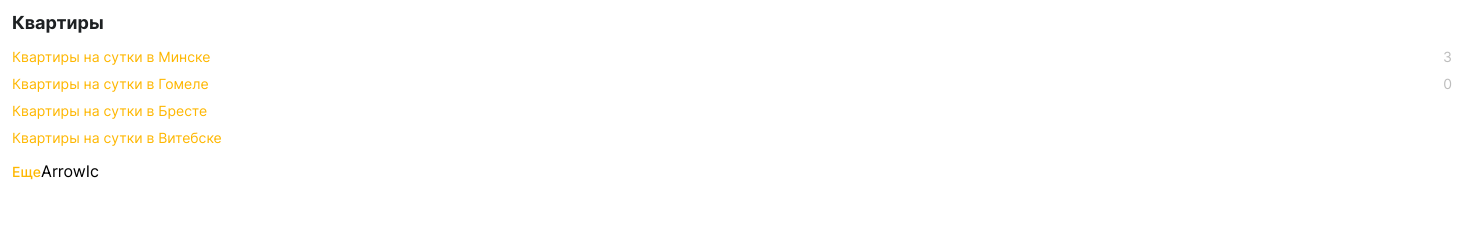
Scenario: CategorySection › Клик на "Еще" и "Скрыть" отрабатывает корректно
Click the element with class "section__toggle".
click(56, 171)  # box [12,161,99,181]
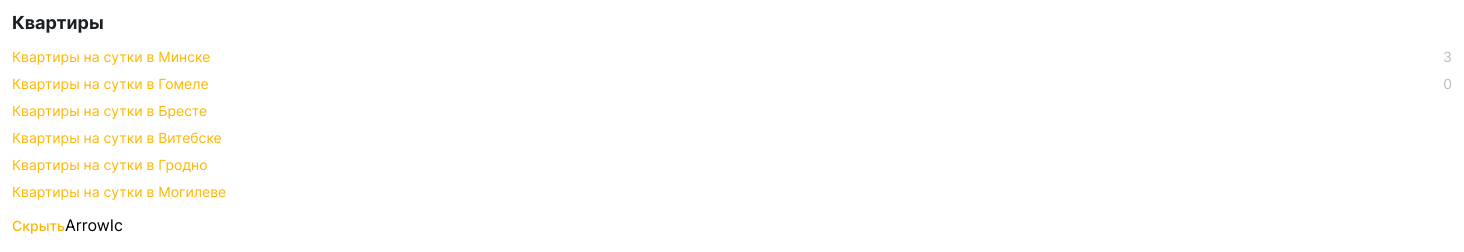
Now the text "Скрыть" is shown, box [12,217,65,234]
Click the element with class "section__toggle".
click(67, 225)  # box [12,215,123,235]
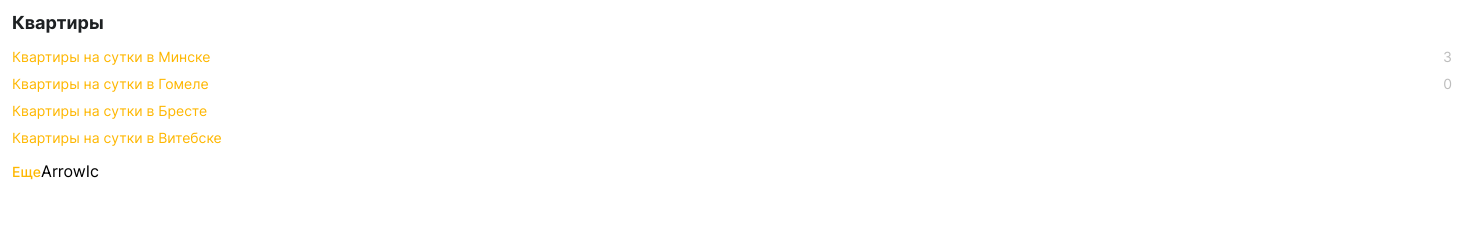
Now the text "Еще" is shown, box [12,163,41,180]
